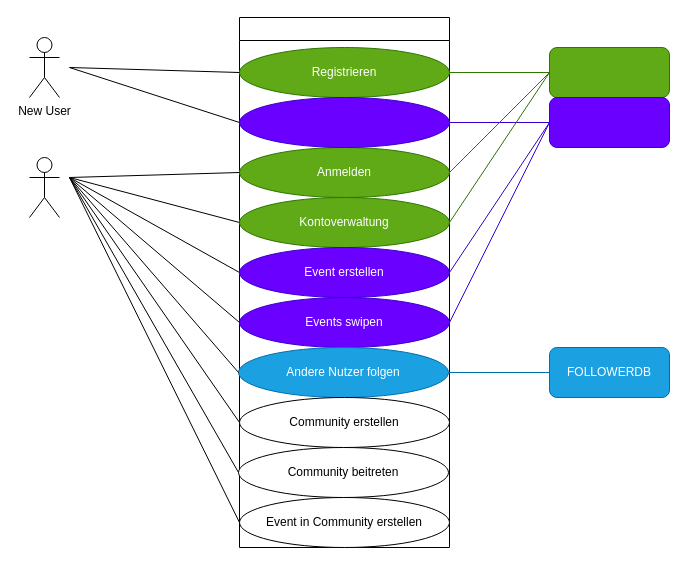
This 687x565 diagram has some shape labels left out. The shapes that lost their labels are listed below. From the top down, each one's box as (x1, y1, x2, y2) in pixels, then its label:
(548, 46, 670, 98): NETROUSERDB
(238, 96, 450, 148): Events mit eingeschränkten Informationen ansehen
(548, 96, 670, 148): NETROEVENTDB
(28, 156, 60, 218): Reg. User
(238, 16, 450, 548): NETRO
